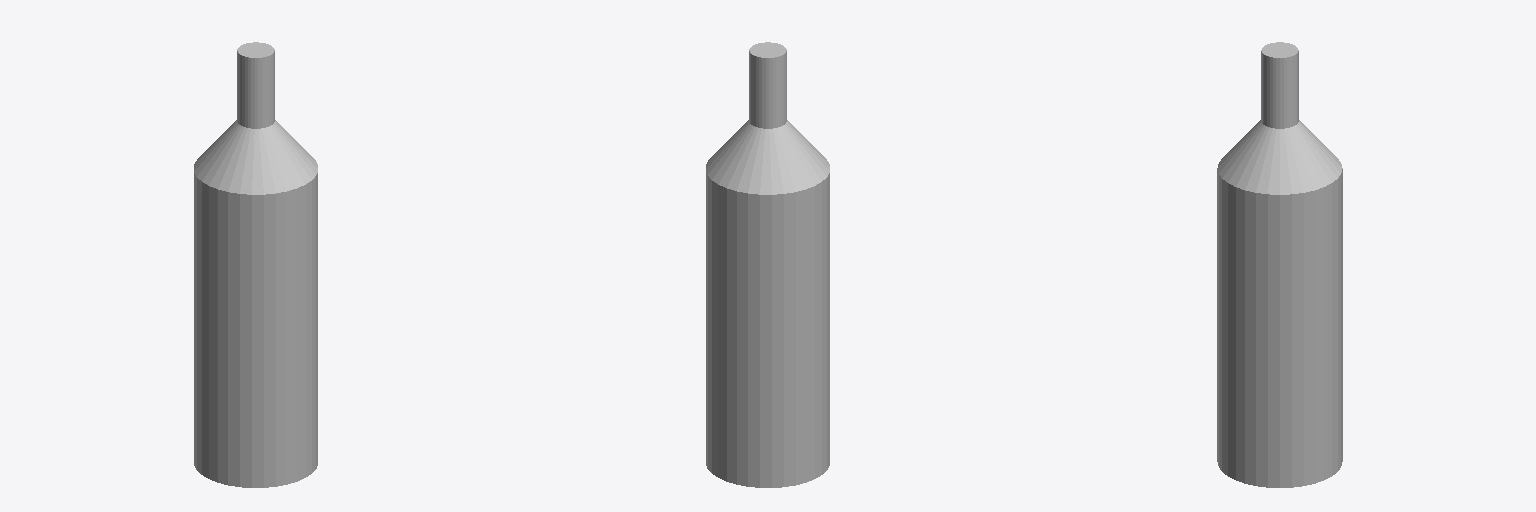
File: bottle.obj
3 renders of one model, left to right at view 1: azimuth 30°, elevation 25°; view 2: azimuth 150°, elevation 25°; view 3: azimuth 270°, elevation 25°, orthographic.
Visible parts, largest first — view 1: Cylinder_Cylinder.001; view 2: Cylinder_Cylinder.001; view 3: Cylinder_Cylinder.001.
Part boxes in pixels (x1,y1,x2,y2): Cylinder_Cylinder.001: (194,42,317,487); Cylinder_Cylinder.001: (706,42,829,487); Cylinder_Cylinder.001: (1217,42,1342,487).
Bounding box in the file's own units: 2 × 7.25 × 2.